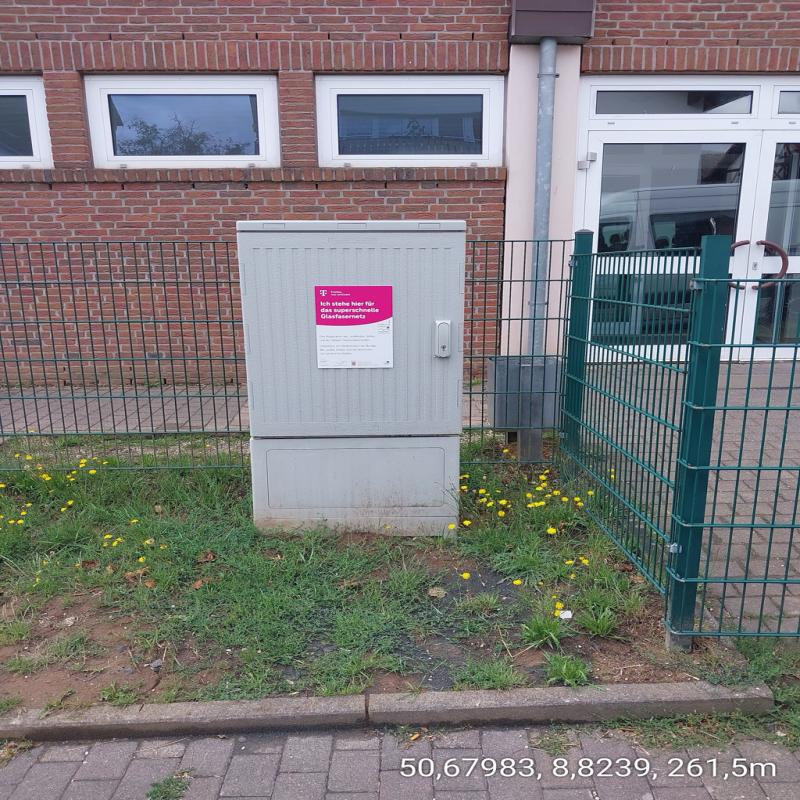NT-Gehause: (239, 218, 464, 537)
Steaker: (310, 284, 398, 368)
